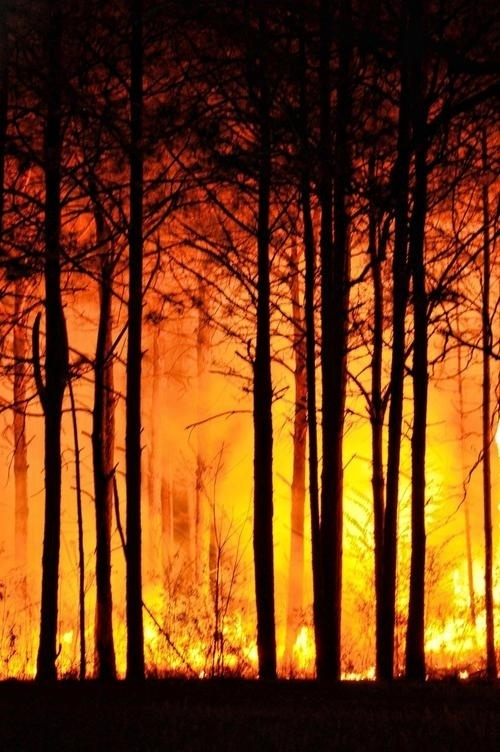fire: (6, 403, 500, 683)
